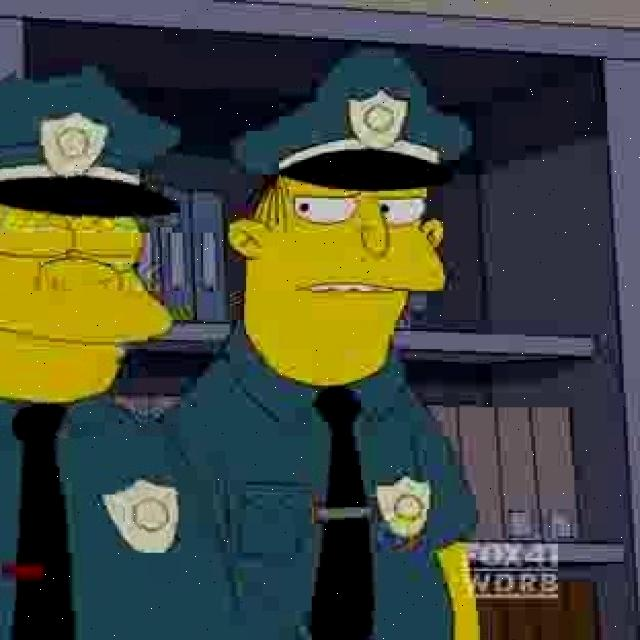Chief Wiggam: (1, 62, 180, 410)
